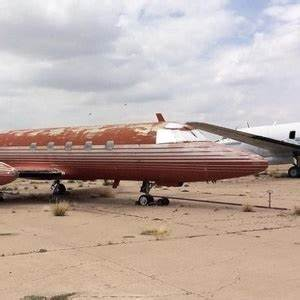rust: (3, 130, 161, 146)
